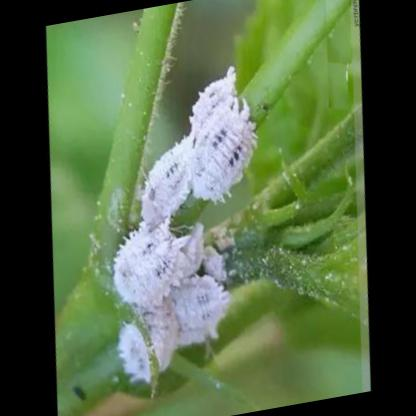mealy bug: (110, 218, 191, 307), (189, 96, 255, 200), (141, 138, 191, 228), (171, 279, 227, 328), (119, 326, 150, 380)
